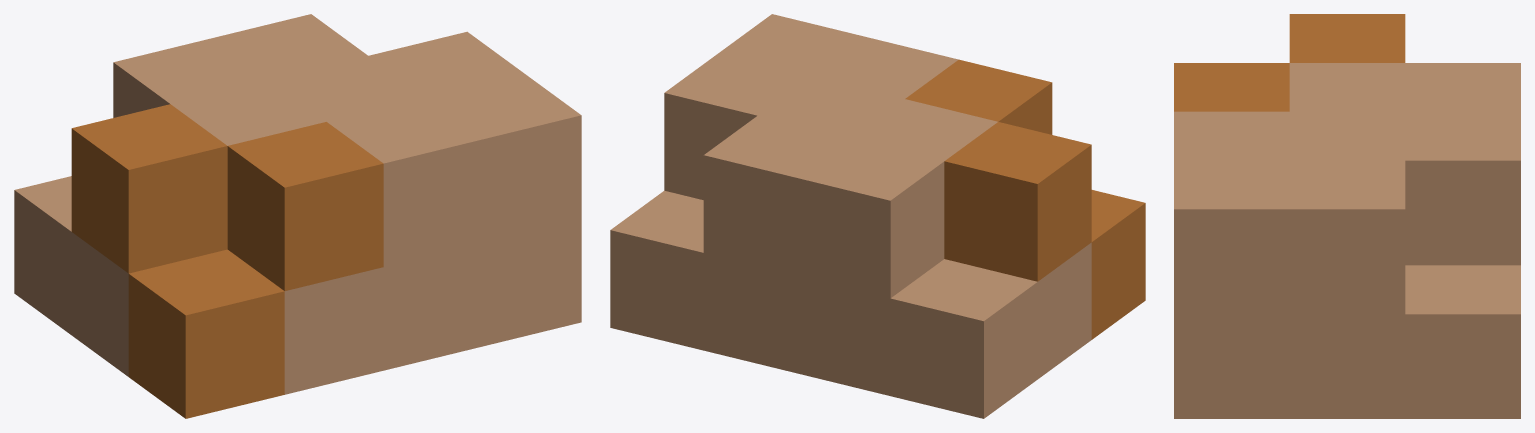
Rendered from CopperIngot.fbx.
3 views of the same model, side by side, from view 1: azimuth 30°, elevation 25°; view 2: azimuth 150°, elevation 25°; view 3: azimuth 270°, elevation 25° (orthographic). The views are drawn at different scales.
Visible parts, largest first — view 1: copper_ingot; view 2: copper_ingot; view 3: copper_ingot.
Part boxes in pixels (x1,y1,x2,y2): copper_ingot: [14, 14, 581, 418]; copper_ingot: [610, 14, 1145, 418]; copper_ingot: [1174, 14, 1520, 418].
Bounding box in the file's own units: 40 × 20 × 30.
